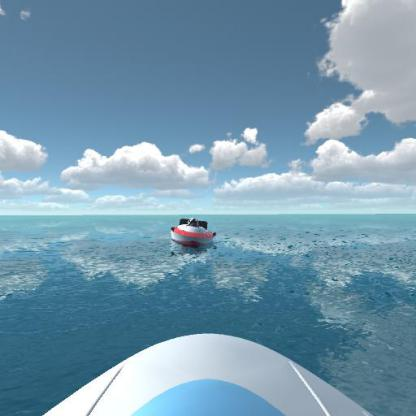usv3: (163, 212, 219, 254)
